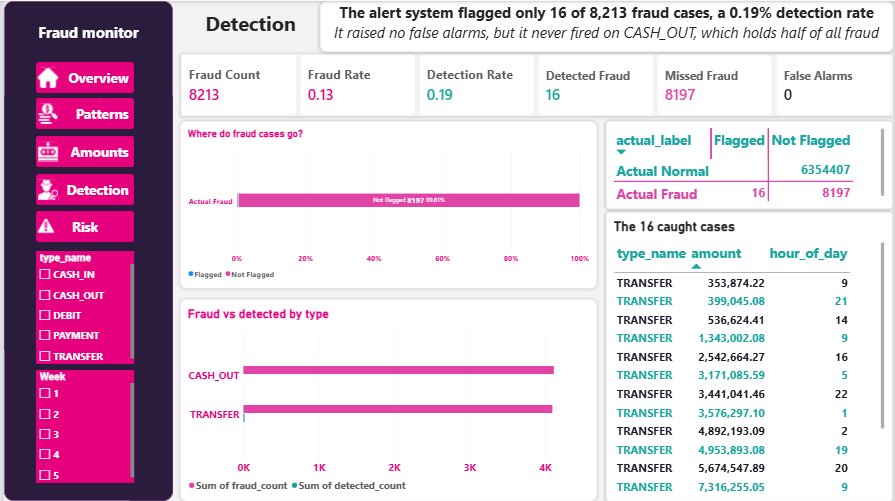

The page's visual inventory and layout, read from the dashboard file:
{"tool":"powerbi","page":{"name":"Detection","canvas":[1920,1080],"ordinal":3},"visuals":[{"type":"cardVisual","fields":{"Data":["Sum(public vw_kpi_overview.fraud_count)","Sum(public vw_kpi_overview.fraud_rate_pct)","Sum(public vw_kpi_overview.detection_rate_pct)","_Measure.Detected Fraud","_Measure.Missed Fraud","_Measure.False Alarms"]},"box":[382.1,114.5,1537.9,133.9],"z":0},{"type":"textbox","box":[682.6,0,1237.7,110.2],"z":1000},{"type":"shape","box":[0,0,365,1080],"z":2000},{"type":"actionButton","box":[69.7,291,211.8,67],"z":3000},{"type":"actionButton","box":[69.7,374.1,211.8,67],"z":4000},{"type":"actionButton","box":[69.7,454.6,211.8,67],"z":5000},{"type":"actionButton","box":[69.7,210.6,211.8,67],"z":6000},{"type":"actionButton","box":[69.7,132.8,211.8,67],"z":7000},{"type":"textbox","box":[0,45.6,364.7,88.5],"z":10000},{"type":"textbox","box":[382.3,19.4,300.2,90.7],"z":11000},{"type":"clusteredBarChart","title":"Fraud vs detected by type","fields":{"Category":["public vw_detection_by_type.type_name"],"Y":["Sum(public vw_detection_by_type.fraud_count)","Sum(public vw_detection_by_type.detected_count)"]},"box":[380.8,643.6,901,437.1],"z":12000},{"type":"hundredPercentStackedBarChart","title":"Where do fraud cases go?","fields":{"Category":["public vw_detection_matrix.actual_label"],"Series":["public vw_detection_matrix.system_label"],"Y":["Sum(public vw_detection_matrix.transactions_count)"]},"box":[380.8,260.1,901,362],"z":13000},{"type":"pivotTable","fields":{"Columns":["public vw_detection_matrix.system_label"],"Rows":["public vw_detection_matrix.actual_label"],"Values":["Sum(public vw_detection_matrix.transactions_count)"]},"box":[1300.6,260.1,619.4,190.4],"z":14000},{"type":"slicer","fields":{"Values":["public vw_fraud_by_type_time.type_name"]},"box":[69.7,539,211.8,244],"z":14001},{"type":"slicer","fields":{"Values":["public vw_fraud_by_type_time.Week"]},"box":[69.7,796.4,211.8,244],"z":14002},{"type":"tableEx","title":"The 16 caught cases","fields":{"Values":["public vw_fraud_transactions.type_name","public vw_fraud_transactions.amount","public vw_fraud_transactions.hour_of_day"]},"box":[1300.6,455.9,619.4,624.8],"z":14003}]}

Visuals, with their boxes in screenshot pixels (x1, y1, x2, y2), scaled from the page's 1920x1080 canvas onto the 895x501 screenshot:
cardVisual - Sum(public vw_kpi_overview.fraud_count) x Sum(public vw_kpi_overview.fraud_rate_pct): 178,53,894,115
textbox: 318,0,894,51
shape: 0,0,170,500
actionButton: 32,135,131,166
actionButton: 32,174,131,205
actionButton: 32,211,131,242
actionButton: 32,98,131,129
actionButton: 32,62,131,93
textbox: 0,21,170,62
textbox: 178,9,318,51
"Fraud vs detected by type" clusteredBarChart: 178,299,598,500
"Where do fraud cases go?" hundredPercentStackedBarChart: 178,121,598,289
pivotTable - public vw_detection_matrix.system_label x public vw_detection_matrix.actual_label: 606,121,894,209
slicer - public vw_fraud_by_type_time.type_name: 32,250,131,363
slicer - public vw_fraud_by_type_time.Week: 32,369,131,483
"The 16 caught cases" tableEx: 606,211,894,500
